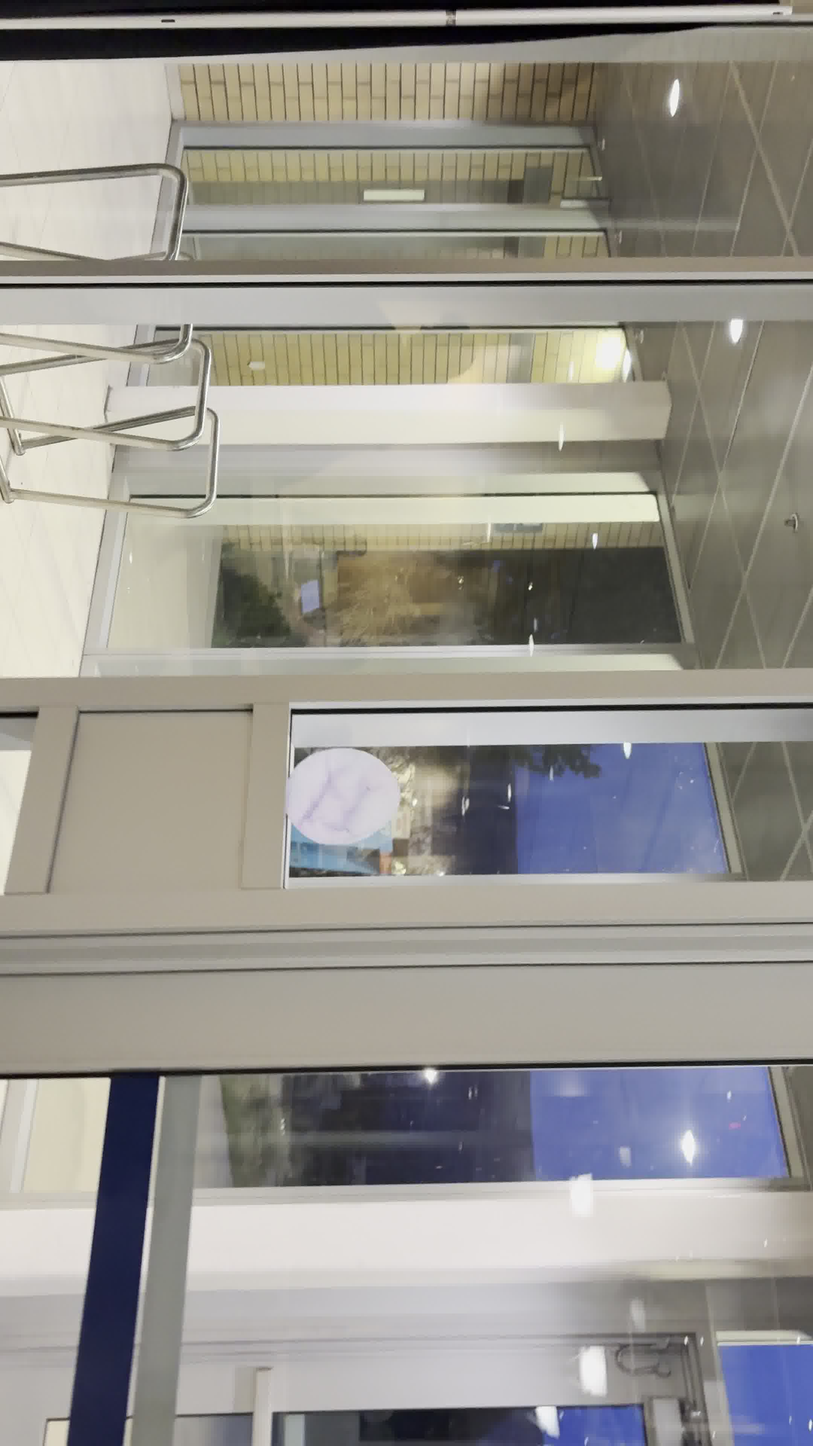Target: (284, 747, 402, 846)
